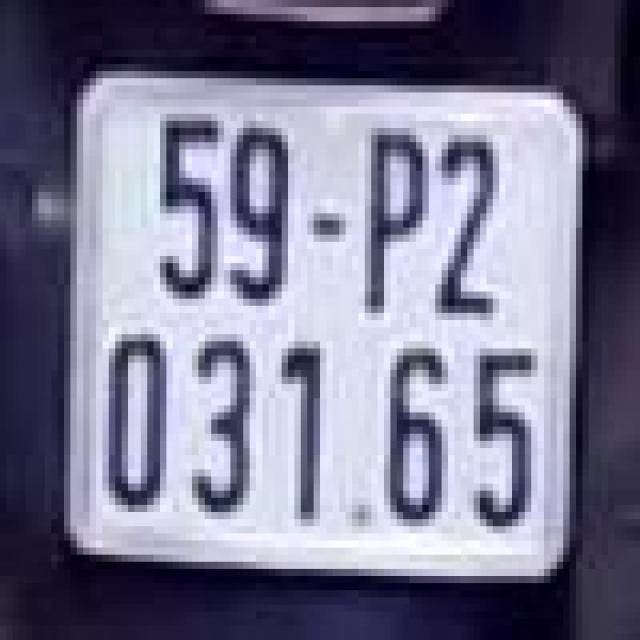0: (96, 330, 179, 522)
1: (272, 327, 342, 533)
2: (435, 117, 506, 331)
3: (186, 327, 256, 526)
5: (464, 338, 547, 551), (147, 107, 224, 313)
6: (372, 334, 454, 526)
9: (224, 118, 294, 316)
P: (358, 114, 429, 320)
